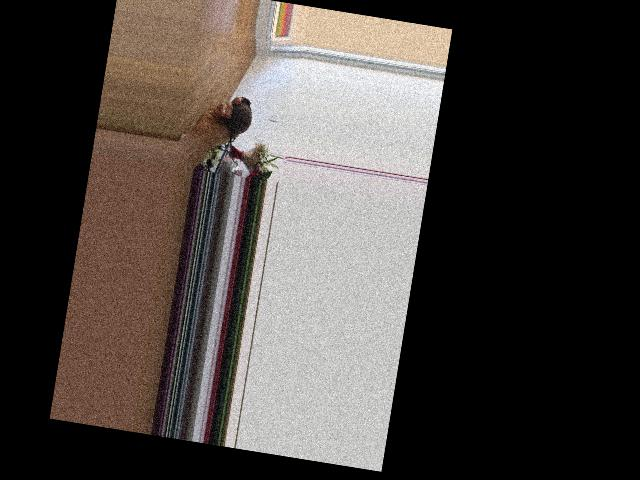beet: (221, 95, 254, 165)
